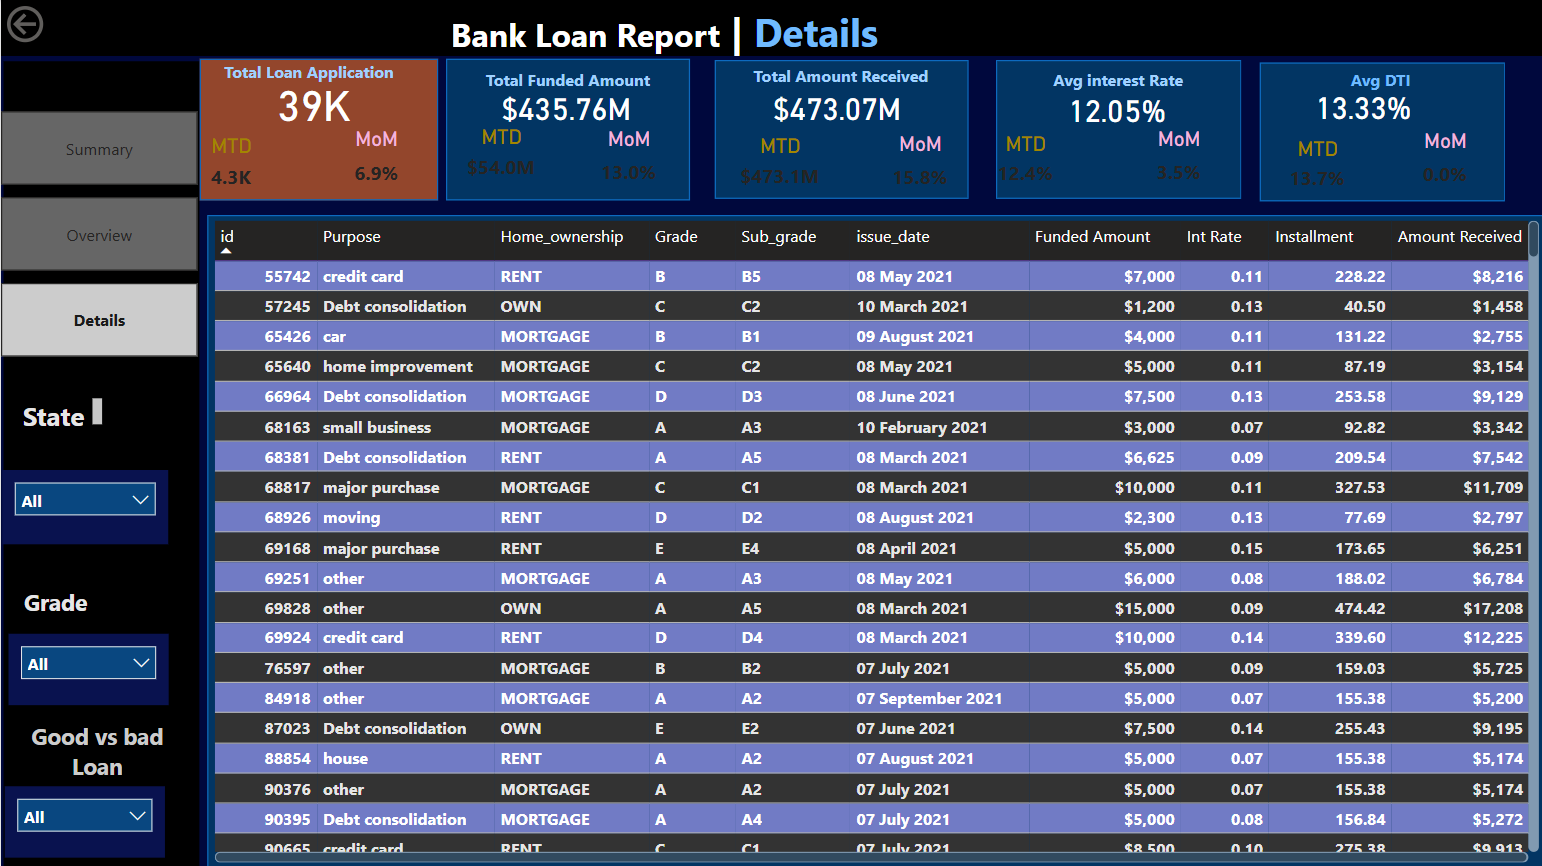

What the dashboard file says about the page in this screenshot:
{"tool":"powerbi","page":{"name":"Details","canvas":[1280,720],"ordinal":2},"visuals":[{"type":"shape","box":[0,0,1280,46.7],"z":0},{"type":"shape","box":[2.3,51.2,162.8,668.6],"z":1000},{"type":"textbox","box":[368.3,0,543.3,68.3],"z":2000},{"type":"shape","box":[165.1,48.8,197.7,117.4],"z":3000},{"type":"card","fields":{"Values":["financial_loan.Total_loan_application"]},"box":[201.2,61.6,117.4,47.7],"z":4000},{"type":"textbox","box":[137.2,45.3,237.2,47.7],"z":5000},{"type":"card","title":"MTD","fields":{"Values":["financial_loan.MTD Loan Applicaton"]},"box":[137.2,110.5,108.1,55.8],"z":6000},{"type":"card","title":"MoM","fields":{"Values":["financial_loan.MoM Loan application"]},"box":[438,103,103,54],"z":7000},{"type":"shape","box":[368.6,48.8,202.3,117.4],"z":8000},{"type":"textbox","box":[369.8,52.3,200,31.4],"z":9000},{"type":"card","fields":{"Values":["financial_loan.Total Funded Amount"]},"box":[380.2,66.3,176.7,46.5],"z":10000},{"type":"card","title":"MTD","fields":{"Values":["financial_loan.MTD funded Amoutn"]},"box":[360.5,103.5,108.1,54.7],"z":11000},{"type":"card","title":"MoM","fields":{"Values":["financial_loan.MoM Loan application"]},"box":[260.5,104.7,102.3,61.6],"z":12000},{"type":"card","title":"MoM","fields":{"Values":["financial_loan.Mom Total Funded Amount"]},"box":[469.8,104.7,102.3,60.5],"z":13000},{"type":"shape","box":[591.9,50,210.5,115.1],"z":14000},{"type":"card","fields":{"Values":["financial_loan.Total Amount Received"]},"box":[604.7,66.3,177.9,46.5],"z":15000},{"type":"card","title":"MTD","fields":{"Values":["financial_loan.Total Amount Received"]},"box":[591.9,110.5,108.1,54.7],"z":16000},{"type":"card","title":"MoM","fields":{"Values":["financial_loan.MoM Total Amount Recieved"]},"box":[710.5,109.3,102.3,60.5],"z":17000},{"type":"shape","box":[824.4,50,203.5,115.1],"z":18000},{"type":"card","fields":{"Values":["financial_loan.Avg Interest Rate"]},"box":[836,68.6,177.9,46.5],"z":19000},{"type":"card","title":"MTD","fields":{"Values":["financial_loan.MTD avg Int Rate"]},"box":[786,109.3,125.6,54.7],"z":20000},{"type":"card","title":"MoM","fields":{"Values":["financial_loan.MoM Avg Int Rate"]},"box":[925.6,104.7,102.3,60.5],"z":21000},{"type":"textbox","box":[595.4,48.8,204.7,34.9],"z":22000},{"type":"textbox","box":[827.9,52.3,200,32.6],"z":23000},{"type":"shape","box":[1043,52.3,203.5,115.1],"z":24000},{"type":"textbox","box":[1041.9,52.3,204.7,34.9],"z":25000},{"type":"card","fields":{"Values":["financial_loan.Avg DTI"]},"box":[1040.7,65.1,177.9,46.5],"z":26000},{"type":"card","title":"MTD","fields":{"Values":["financial_loan.MTD Avg Dti"]},"box":[1037.2,112.8,108.1,54.7],"z":27000},{"type":"card","title":"MoM","fields":{"Values":["financial_loan.MoM Avg DTI"]},"box":[1146.5,107,102.3,60.5],"z":28000},{"type":"slicer","fields":{"Values":["financial_loan.address_state"]},"box":[1.2,389.5,137.2,61.6],"z":29000},{"type":"textbox","box":[5.8,325.6,82.6,34.9],"z":30000},{"type":"slicer","fields":{"Values":["financial_loan.grade"]},"box":[5.8,525.6,132.6,59.3],"z":31000},{"type":"textbox","box":[5.8,481.4,77.9,34.9],"z":32000},{"type":"slicer","fields":{"Values":["financial_loan.Good v Bad Loan"]},"box":[3.5,652.3,132.6,59.3],"z":33000},{"type":"textbox","box":[4.7,593,151.2,59.3],"z":34000},{"type":"shape","box":[170.9,177.9,1109.3,541.9],"z":35000},{"type":"tableEx","fields":{"Values":["Sum(financial_loan.id)","financial_loan.purpose","financial_loan.home_ownership","financial_loan.grade","financial_loan.sub_grade","financial_loan.issue_date","financial_loan.Total Funded Amount","Sum(financial_loan.int_rate)","Sum(financial_loan.installment)","financial_loan.Total Amount Received"]},"box":[170.9,177.9,1109.3,541.9],"z":36000},{"type":"actionButton","box":[0,0,100,40],"z":37000},{"type":"pageNavigator","box":[0,91.9,164,204.7],"z":38000}]}

Visuals, with their boxes on the page's 1280x720 design canvas (x1, y1, x2, y2). These are canvas units, not pixel positions in the 1542x866 screenshot, which may show the page scaled, cropped or inside an application window:
shape: <bbox>0, 0, 1280, 47</bbox>
shape: <bbox>2, 51, 165, 720</bbox>
textbox: <bbox>368, 0, 912, 68</bbox>
shape: <bbox>165, 49, 363, 166</bbox>
card - financial_loan.Total_loan_application: <bbox>201, 62, 319, 109</bbox>
textbox: <bbox>137, 45, 374, 93</bbox>
"MTD" card: <bbox>137, 110, 245, 166</bbox>
"MoM" card: <bbox>438, 103, 541, 157</bbox>
shape: <bbox>369, 49, 571, 166</bbox>
textbox: <bbox>370, 52, 570, 84</bbox>
card - financial_loan.Total Funded Amount: <bbox>380, 66, 557, 113</bbox>
"MTD" card: <bbox>360, 104, 469, 158</bbox>
"MoM" card: <bbox>260, 105, 363, 166</bbox>
"MoM" card: <bbox>470, 105, 572, 165</bbox>
shape: <bbox>592, 50, 802, 165</bbox>
card - financial_loan.Total Amount Received: <bbox>605, 66, 783, 113</bbox>
"MTD" card: <bbox>592, 110, 700, 165</bbox>
"MoM" card: <bbox>710, 109, 813, 170</bbox>
shape: <bbox>824, 50, 1028, 165</bbox>
card - financial_loan.Avg Interest Rate: <bbox>836, 69, 1014, 115</bbox>
"MTD" card: <bbox>786, 109, 912, 164</bbox>
"MoM" card: <bbox>926, 105, 1028, 165</bbox>
textbox: <bbox>595, 49, 800, 84</bbox>
textbox: <bbox>828, 52, 1028, 85</bbox>
shape: <bbox>1043, 52, 1246, 167</bbox>
textbox: <bbox>1042, 52, 1247, 87</bbox>
card - financial_loan.Avg DTI: <bbox>1041, 65, 1219, 112</bbox>
"MTD" card: <bbox>1037, 113, 1145, 168</bbox>
"MoM" card: <bbox>1146, 107, 1249, 168</bbox>
slicer - financial_loan.address_state: <bbox>1, 390, 138, 451</bbox>
textbox: <bbox>6, 326, 88, 360</bbox>
slicer - financial_loan.grade: <bbox>6, 526, 138, 585</bbox>
textbox: <bbox>6, 481, 84, 516</bbox>
slicer - financial_loan.Good v Bad Loan: <bbox>4, 652, 136, 712</bbox>
textbox: <bbox>5, 593, 156, 652</bbox>
shape: <bbox>171, 178, 1280, 720</bbox>
tableEx - Sum(financial_loan.id) x financial_loan.purpose: <bbox>171, 178, 1280, 720</bbox>
actionButton: <bbox>0, 0, 100, 40</bbox>
pageNavigator: <bbox>0, 92, 164, 297</bbox>
